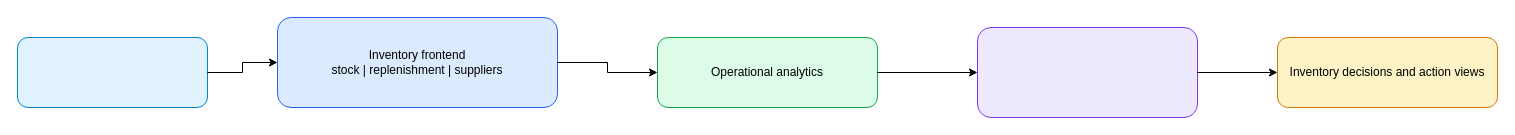
This 1515x135 diagram has some shape labels left out. Each missing label, with the box of its shape:
Mistral + Qwen + optional bge-m3: (976, 26, 1198, 118)
Stock and supplier data: (16, 36, 208, 108)
